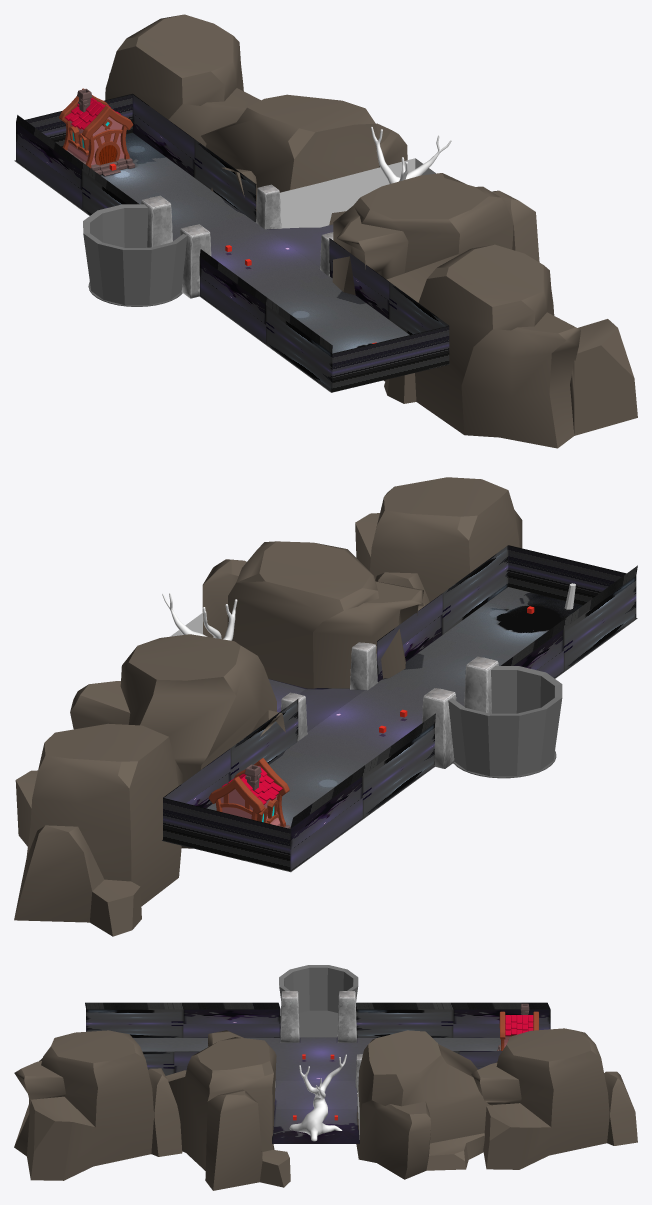
3 renders of one model, top to bottom at view 1: azimuth 30°, elevation 25°; view 2: azimuth 150°, elevation 25°; view 3: azimuth 270°, elevation 25°, orthographic. The views are drawn at different scales.
Visible parts, largest first — view 1: meshonly_lp2.003, meshbody_MonsterCorridor, meshbody_leftWall, meshonly_lp2, meshonly_lp2.001, meshonly_lp2.002, meshbody_Torus, bodyonly_leftWall.002, meshonly_House, bodyonly_monsterWayWall, bodyonly_leftWall.001, meshbody_pillar.002 (+3 smaller); view 2: meshonly_lp2.002, meshbody_leftWall, meshonly_lp2, meshbody_MonsterCorridor, meshonly_lp2.001, meshonly_lp2.003, meshbody_Torus, bodyonly_leftWall.001, bodyonly_leftWall.002, meshonly_House, meshbody_pillar.001, meshbody_pillar.002 (+2 smaller); view 3: meshonly_lp2.003, meshonly_lp2.002, meshonly_lp2.001, meshonly_lp2, meshbody_leftWall, meshbody_MonsterCorridor, meshbody_Torus, meshonly_Trunk_Cube.001, meshbody_Floor, meshonly_House, meshbody_pillar.002, meshbody_pillar.001 (+2 smaller).
Part boxes in pixels (x1,y1,x2,y2): meshonly_lp2.003: (384,244,637,448); meshbody_MonsterCorridor: (14,132,448,392); meshbody_leftWall: (16,93,449,392); meshonly_lp2: (332,173,539,381); meshonly_lp2.001: (201,94,407,224); meshonly_lp2.002: (105,14,260,146); meshbody_Torus: (83,204,187,305); bodyonly_leftWall.002: (132,94,256,222); meshonly_House: (59,88,134,175); bodyonly_monsterWayWall: (279,158,435,228); bodyonly_leftWall.001: (329,238,448,334); meshbody_pillar.002: (180,224,211,298); meshonly_lp2.002: (14,723,182,936); meshbody_leftWall: (163,545,637,871); meshonly_lp2: (202,541,425,688); meshbody_MonsterCorridor: (162,587,637,872); meshonly_lp2.001: (70,634,285,848); meshonly_lp2.003: (355,477,522,606); meshbody_Torus: (448,666,562,776); bodyonly_leftWall.001: (377,545,508,681); bodyonly_leftWall.002: (163,699,298,808); meshonly_House: (208,758,290,828); meshbody_pillar.001: (422,688,456,768); meshbody_pillar.002: (464,656,498,713); meshonly_lp2.003: (14,1030,182,1180); meshonly_lp2.002: (471,1028,637,1169); meshonly_lp2.001: (356,1030,490,1179); meshonly_lp2: (166,1030,290,1190); meshbody_leftWall: (85,1002,550,1037); meshbody_MonsterCorridor: (133,1037,500,1143); meshbody_Torus: (279,965,358,1012); meshonly_Trunk_Cube.001: (289,1054,346,1141); meshbody_Floor: (299,1010,338,1037); meshonly_House: (497,1003,538,1050); meshbody_pillar.002: (280,991,299,1042); meshbody_pillar.001: (337,991,356,1042).
Bounding box in the file's own units: 251 × 91.77 × 484.
Materials: 14 (3 with a texture image).
